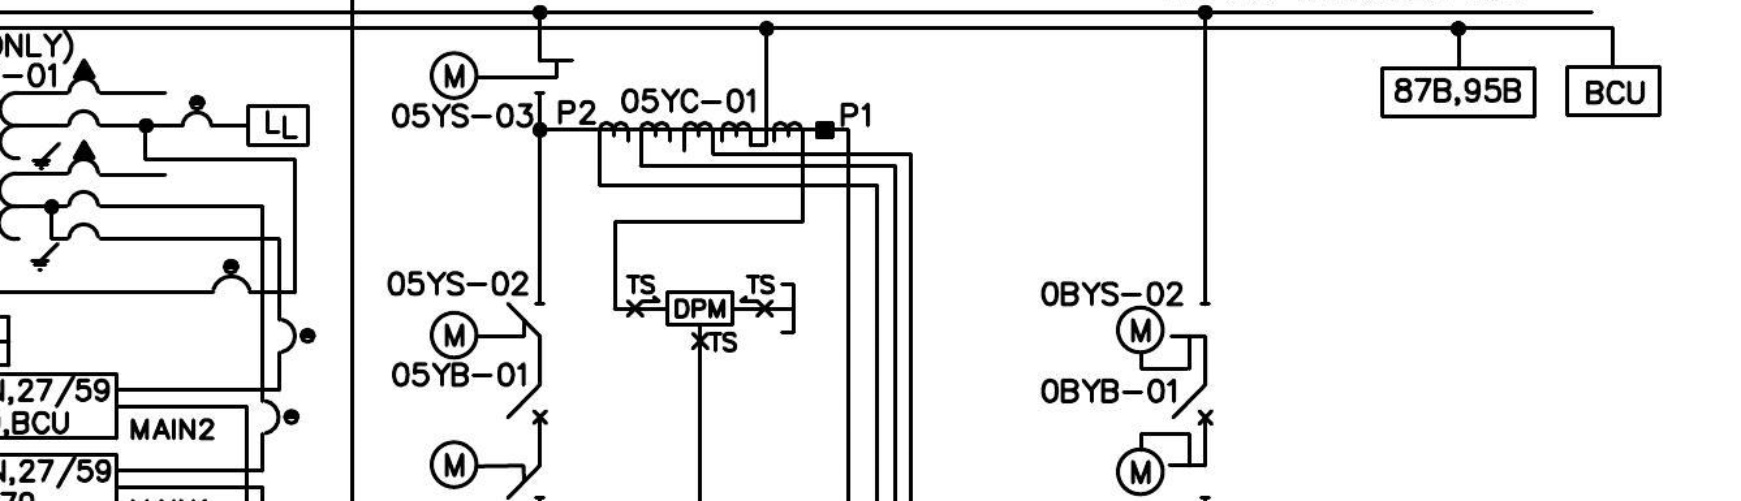115_1way_ds_w_motor: (429, 49, 575, 101), (429, 439, 547, 500), (429, 301, 546, 360), (1115, 431, 1212, 501), (1115, 301, 1211, 371)
115_breaker: (1171, 383, 1215, 427), (505, 383, 549, 425)
BCU: (1564, 64, 1663, 118)
DPM: (665, 290, 735, 327)
LL: (245, 103, 311, 148)
